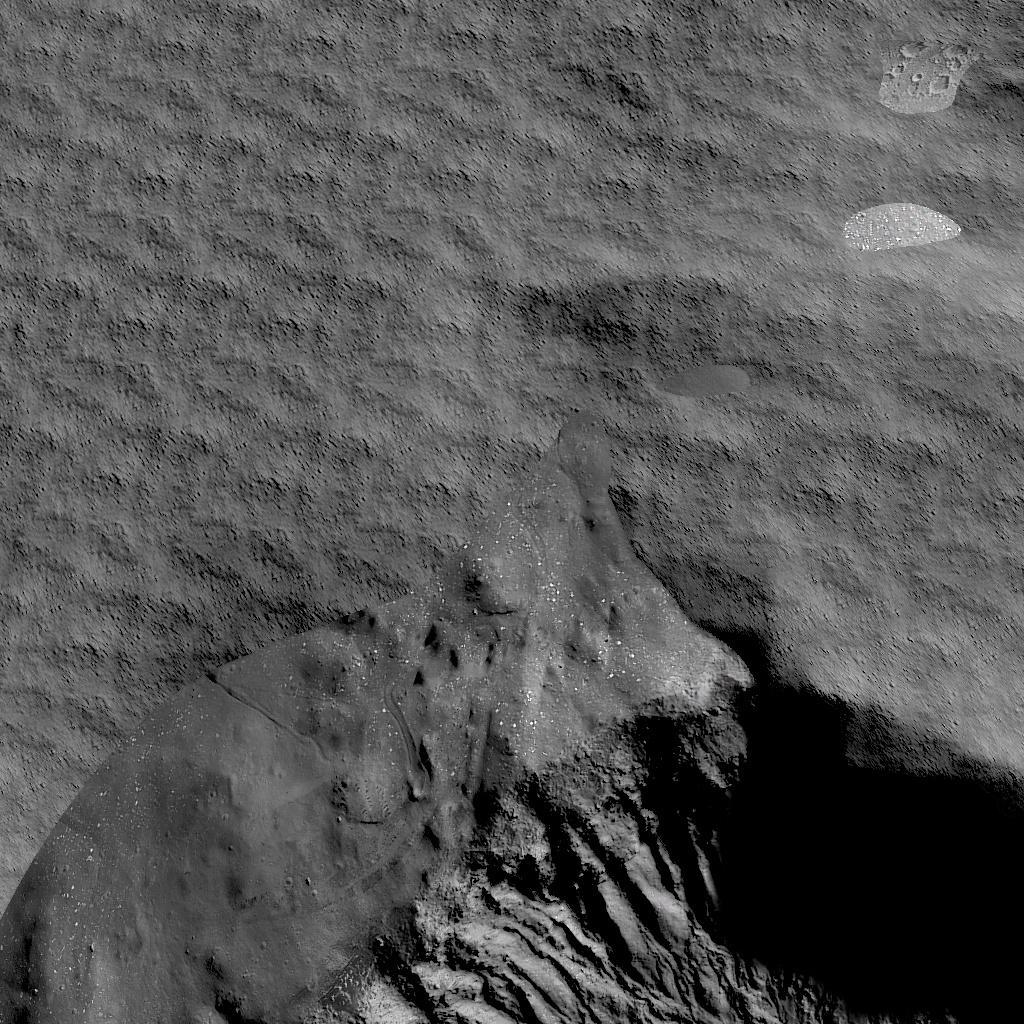Crater: (0, 588, 1024, 1024)
Plan surface: (0, 0, 1024, 575)
